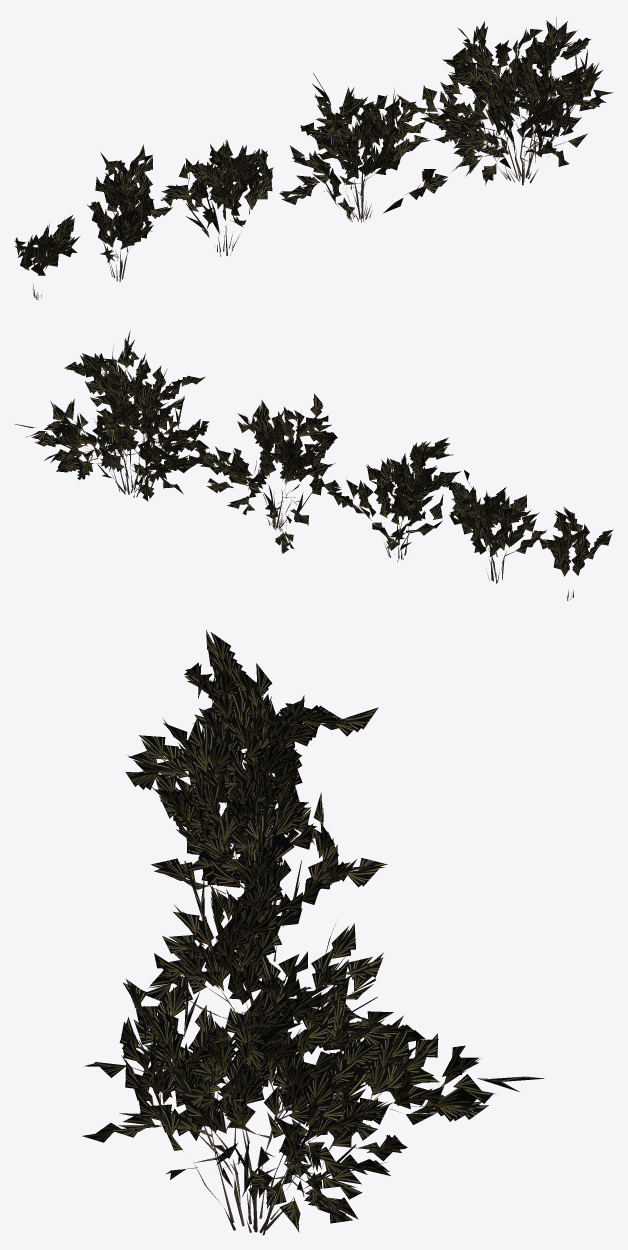
File: ph_wild_rooibos_bush.glb
The picture shows the model from 3 angles, top to bottom: view 1: azimuth 30°, elevation 25°; view 2: azimuth 150°, elevation 25°; view 3: azimuth 270°, elevation 25°; orthographic projection. The views are drawn at different scales.
Parts seen in each view (by area): view 1: wild_rooibos_bush_a; view 2: wild_rooibos_bush_a; view 3: wild_rooibos_bush_a.
Part boxes in pixels (left/top/right/bottom): wild_rooibos_bush_a: left=14, top=17, right=613, bottom=300; wild_rooibos_bush_a: left=14, top=330, right=613, bottom=600; wild_rooibos_bush_a: left=82, top=630, right=544, bottom=1235.
Bounding box in the file's own units: 2.27 × 0.5329 × 0.8239.
Materials: 2 (2 with a texture image).
